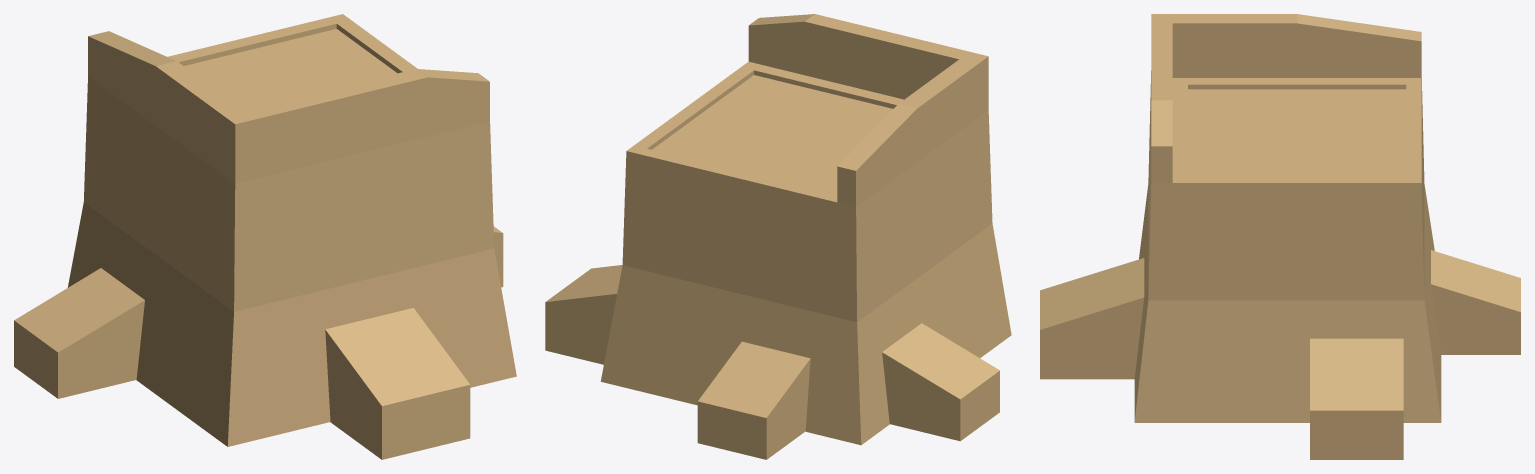
File: Mega_Asset_s_Pack_Cube_134.FBX
3 renders of one model, left to right at view 1: azimuth 30°, elevation 25°; view 2: azimuth 150°, elevation 25°; view 3: azimuth 270°, elevation 25°, orthographic. The views are drawn at different scales.
Parts seen in each view (by area): view 1: Mega_Asset_s_Pack_Cube_134; view 2: Mega_Asset_s_Pack_Cube_134; view 3: Mega_Asset_s_Pack_Cube_134.
Boxes of the visible parts, bbox=[...] form: Mega_Asset_s_Pack_Cube_134: bbox=[14, 14, 516, 459]; Mega_Asset_s_Pack_Cube_134: bbox=[545, 14, 1011, 459]; Mega_Asset_s_Pack_Cube_134: bbox=[1040, 14, 1520, 459].
Size of what is drawn, in the model's own units: 197 by 198 by 131.
